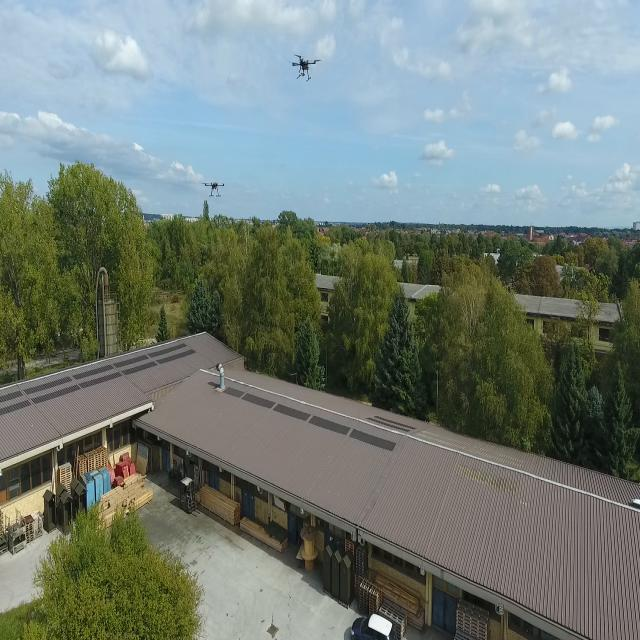UAV: (288, 47, 324, 83), (200, 175, 228, 199)
